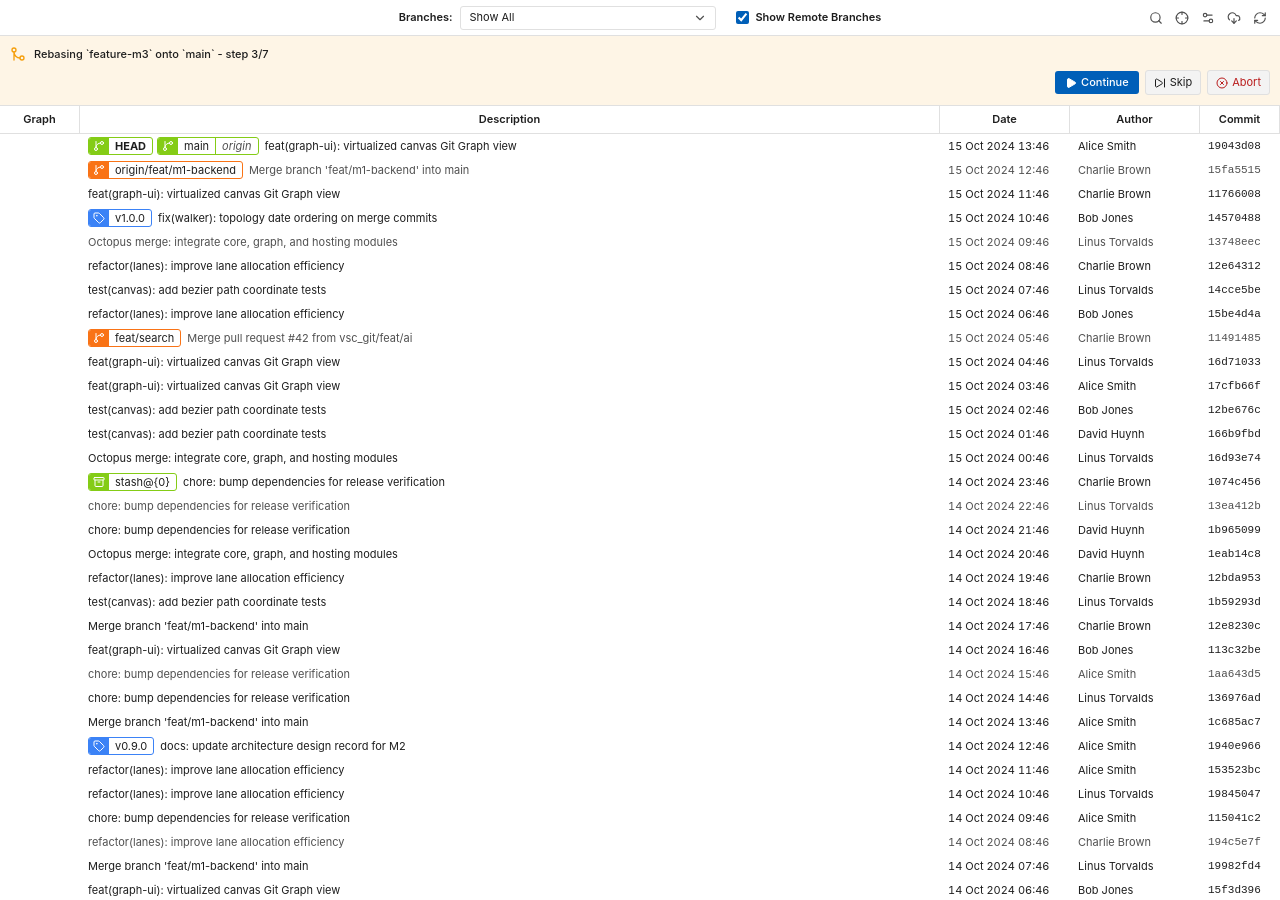
Scenario: GraphView component › opens context menu on ref with spec 6.5 items
Step 1. Right-click the text "HEAD" → x=131, y=146, box [115,138,146,152]
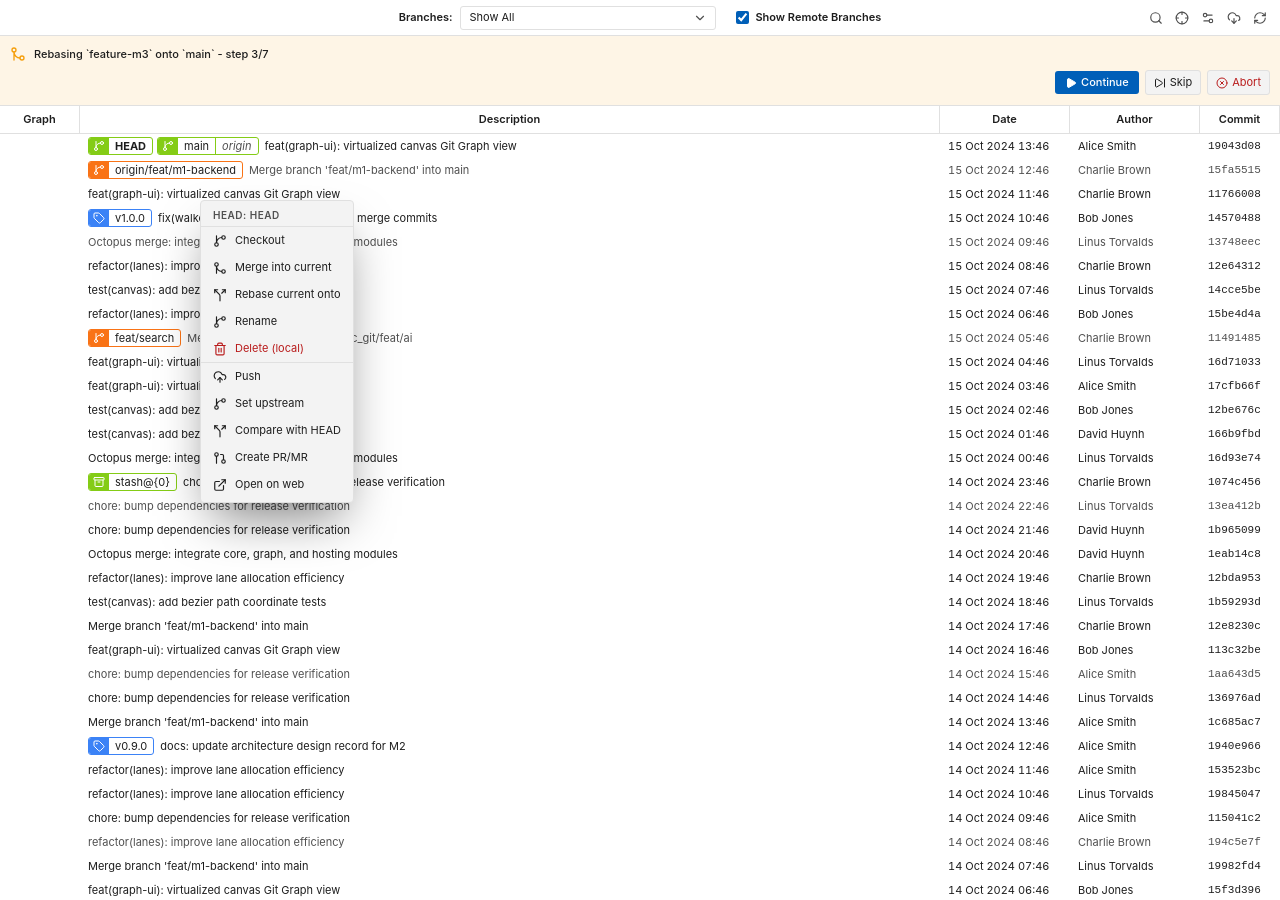
Expected: the text "Checkout" is shown, [235,233,285,248]
Expected: the text "Merge into current" is shown, [235,260,332,275]
Expected: the text "Rebase current onto" is shown, [235,287,340,302]
